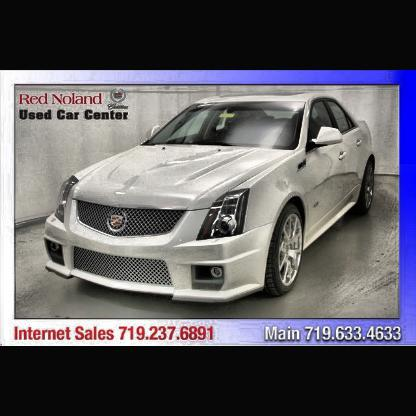Cadillac CTS-V Sedan 2012: (43, 95, 376, 304)
